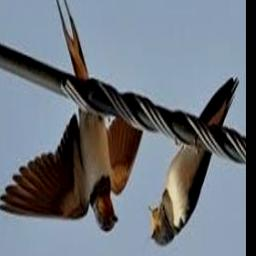Swallow: (0, 0, 145, 233), (149, 78, 241, 244)
